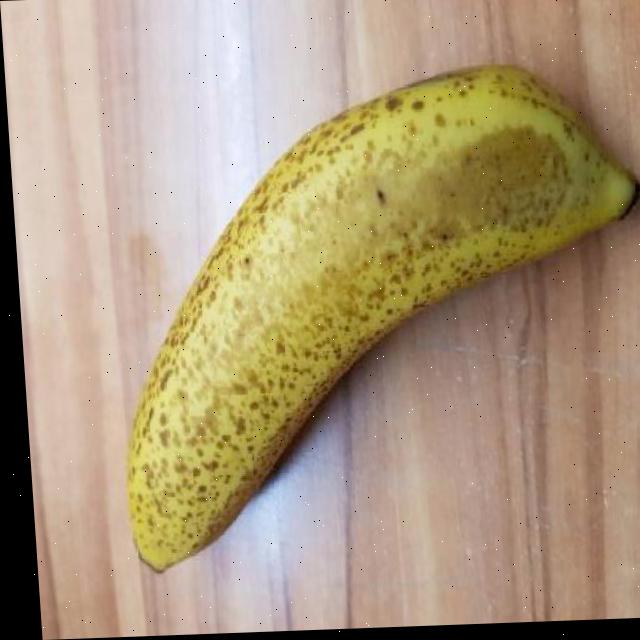banana: (91, 56, 640, 572)
